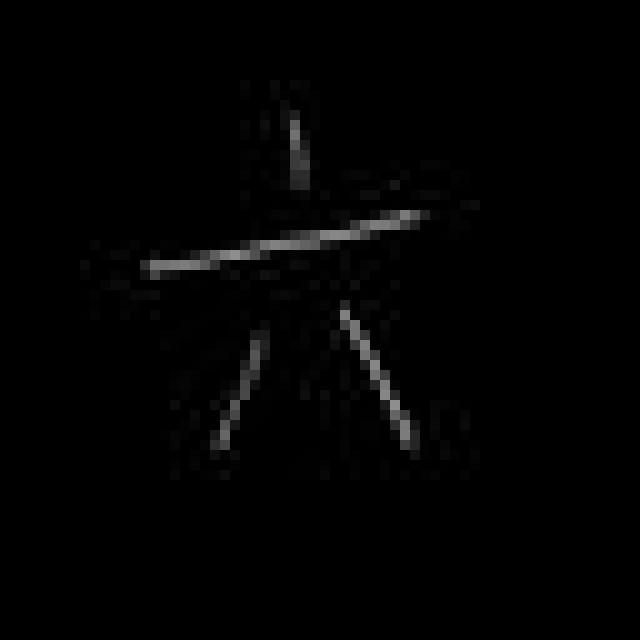6 -six-: (133, 118, 439, 470)
